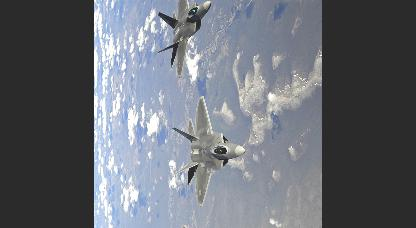F18: (171, 94, 245, 206), (156, 0, 212, 77)
